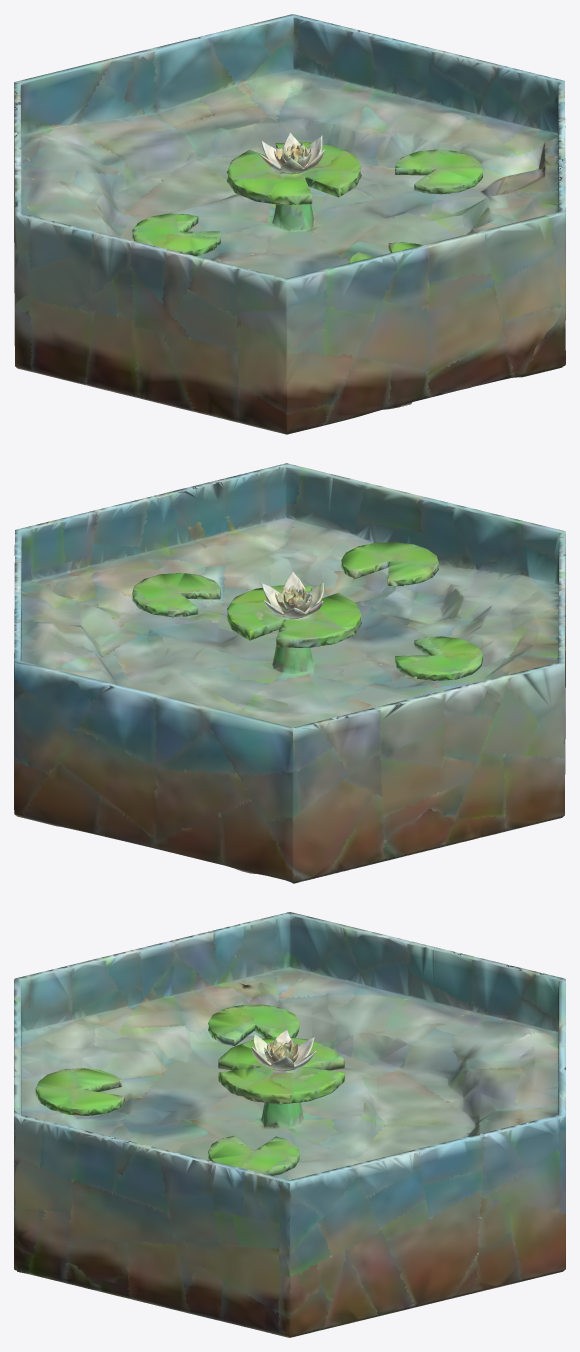
The model's file is watertile_lv1.glb.
3 renders of one model, top to bottom at view 1: azimuth 30°, elevation 25°; view 2: azimuth 150°, elevation 25°; view 3: azimuth 270°, elevation 25°, orthographic.
Bounding box in the file's own units: 1.9 × 0.5365 × 1.63.
Materials: 1 (1 with a texture image).
